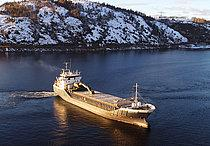Ship: (49, 61, 158, 131)
